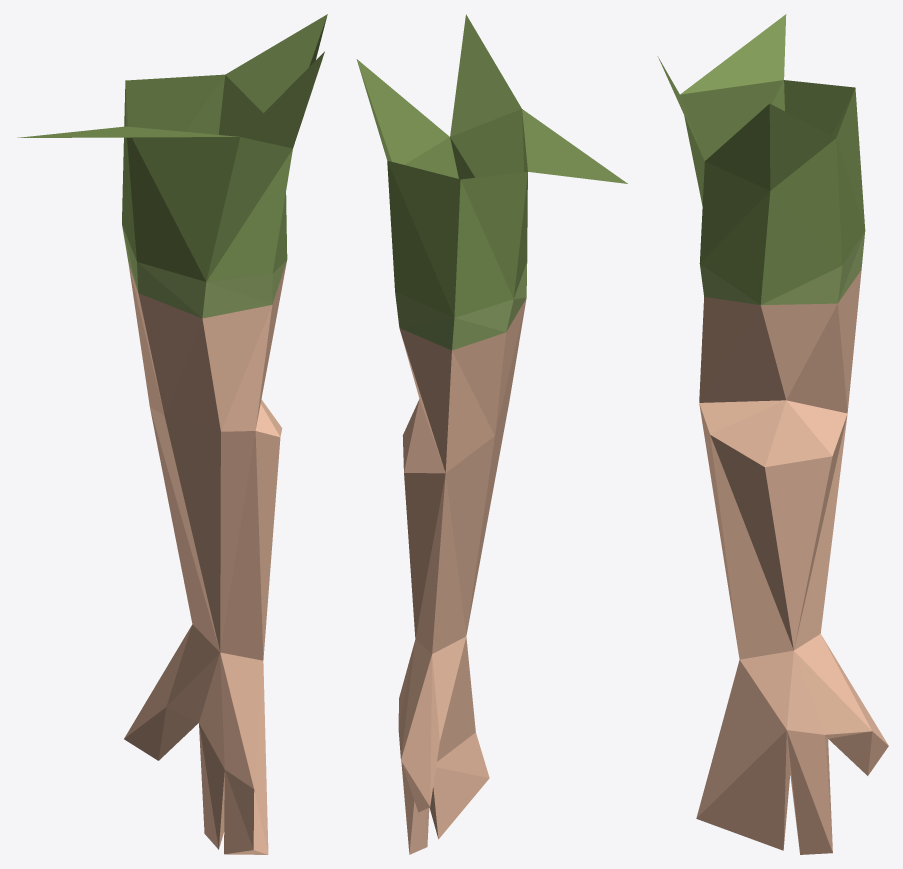
Rendered from ArmR_Lo.obj.
3 views of the same model, side by side, from view 1: azimuth 30°, elevation 25°; view 2: azimuth 150°, elevation 25°; view 3: azimuth 270°, elevation 25° (orthographic). The views are drawn at different scales.
Bounding box in the file's own units: 0.3377 × 0.8948 × 0.2307.
1 material, 1 textured.
